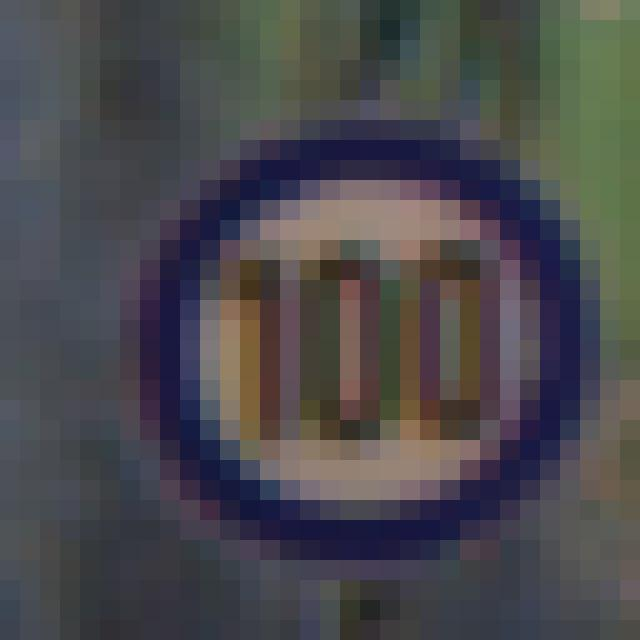SPEED LIMIT 100: (140, 139, 594, 548)
